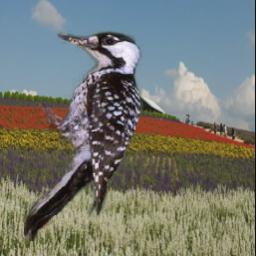Woodpecker: (24, 32, 143, 242)
